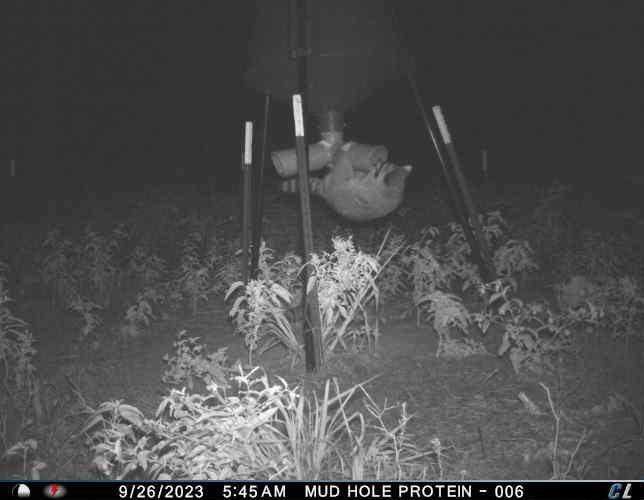Raccoon: (279, 159, 415, 225)
